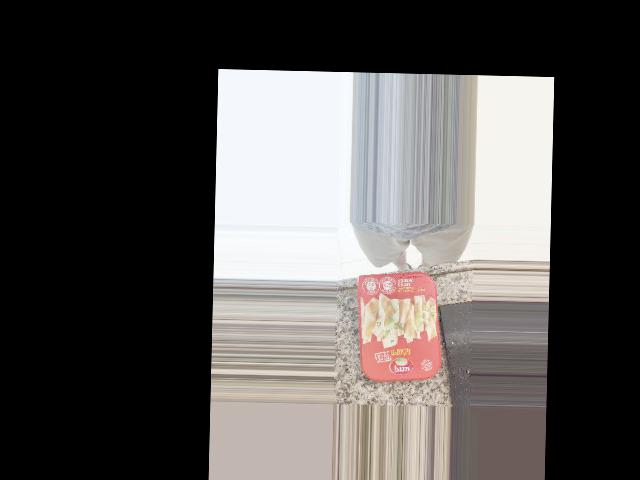cheese: (365, 248, 455, 360)
